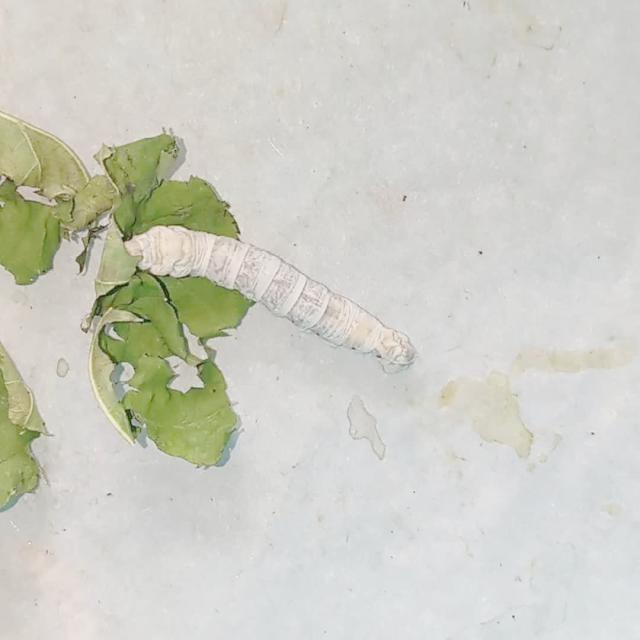Grasserie: (100, 174, 470, 390)
